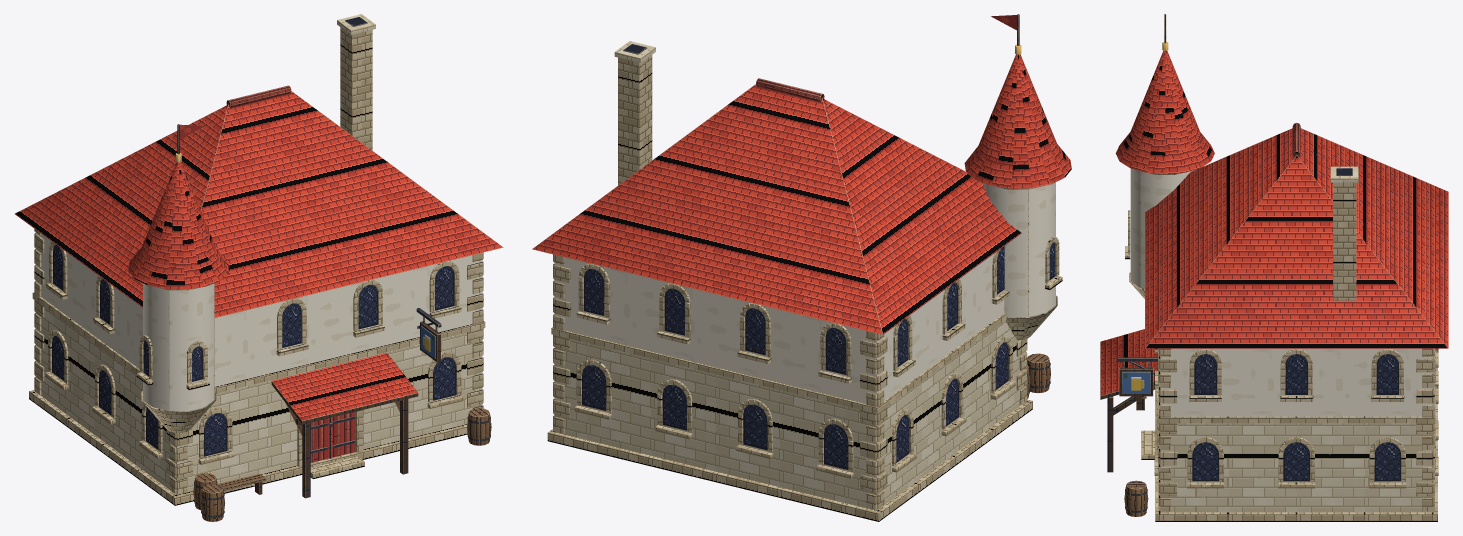
Rendered from tavern_3.glb.
The picture shows the model from 3 angles, left to right: view 1: azimuth 30°, elevation 25°; view 2: azimuth 150°, elevation 25°; view 3: azimuth 270°, elevation 25°; orthographic projection. The views are drawn at different scales.
Visible parts, largest first — view 1: tavern_4; view 2: tavern_4; view 3: tavern_4.
Part boxes in pixels (bbox=[...]): tavern_4: bbox=[15, 14, 503, 521]; tavern_4: bbox=[532, 14, 1071, 521]; tavern_4: bbox=[1100, 14, 1448, 521].
Bounding box in the file's own units: 11.75 × 11.75 × 10.19.
Materials: 18 (18 with a texture image).
